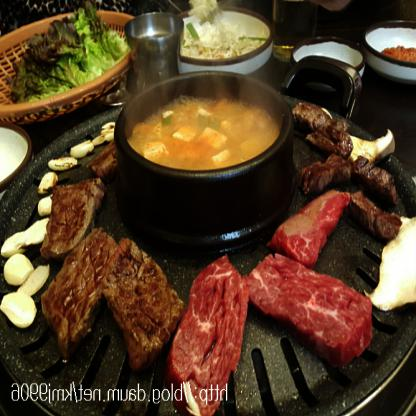Carne: (96, 238, 185, 371), (40, 228, 116, 362), (42, 174, 108, 274), (350, 190, 396, 245), (342, 154, 400, 189), (307, 113, 349, 155), (304, 154, 350, 188), (290, 102, 329, 134)
